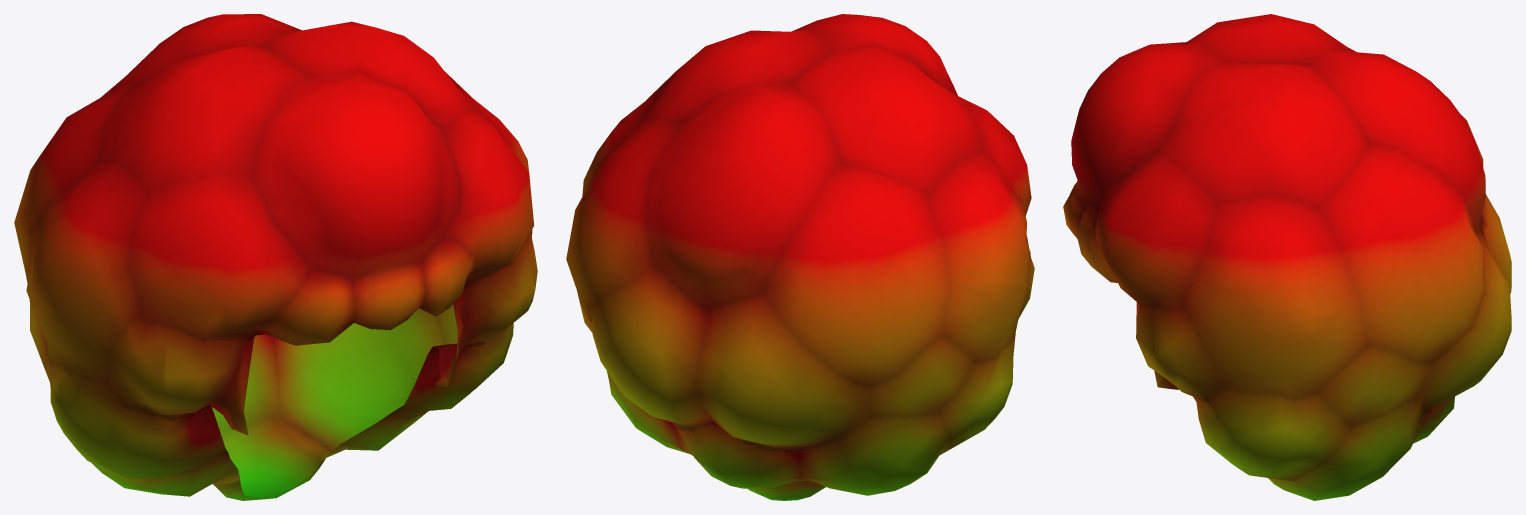
Rendered from HairBack_Afro.obj.
3 renders of one model, left to right at view 1: azimuth 30°, elevation 25°; view 2: azimuth 150°, elevation 25°; view 3: azimuth 270°, elevation 25°, orthographic. The views are drawn at different scales.
Visible parts, largest first — view 1: HairBack_Afro_0; view 2: HairBack_Afro_0; view 3: HairBack_Afro_0.
Boxes of the visible parts, bbox=[...] form: HairBack_Afro_0: bbox=[14, 14, 537, 500]; HairBack_Afro_0: bbox=[566, 14, 1034, 500]; HairBack_Afro_0: bbox=[1063, 14, 1511, 500].
Bounding box in the file's own units: 0.3707 × 0.3557 × 0.3351.
Materials: 1 (1 with a texture image).
